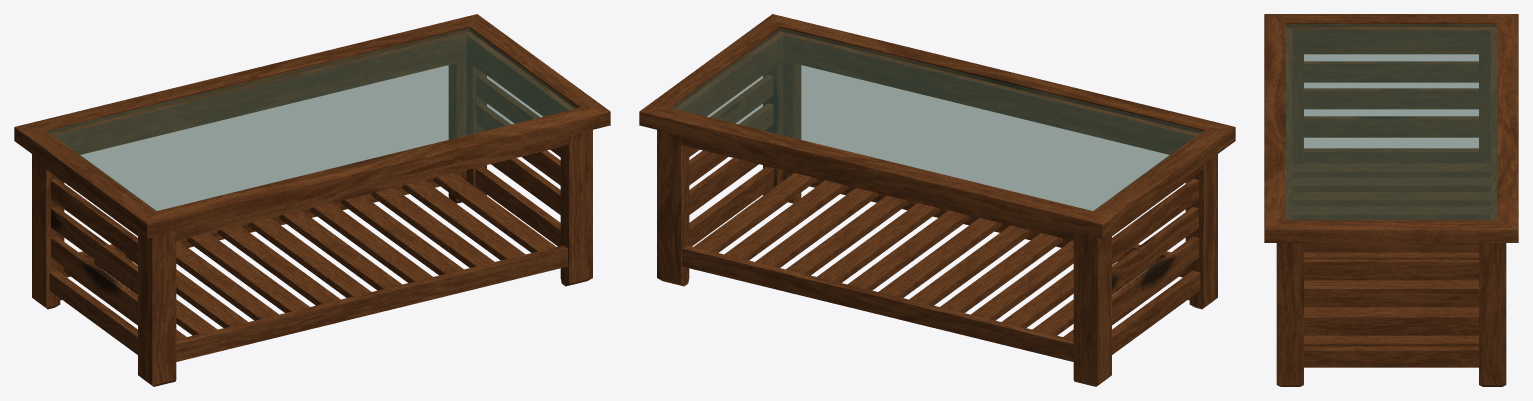
File: modern_wooden_glass_top_table_-_asset.glb
The picture shows the model from 3 angles, left to right: view 1: azimuth 30°, elevation 25°; view 2: azimuth 150°, elevation 25°; view 3: azimuth 270°, elevation 25°; orthographic projection. The views are drawn at different scales.
Visible parts, largest first — view 1: TABLE _1, GLASS_0; view 2: TABLE _1, GLASS_0; view 3: TABLE _1, GLASS_0.
Part boxes in pixels (<box>): TABLE _1: <box>14,14,610,386</box>; GLASS_0: <box>46,28,577,210</box>; TABLE _1: <box>639,14,1235,386</box>; GLASS_0: <box>672,28,1203,210</box>; TABLE _1: <box>1264,14,1518,386</box>; GLASS_0: <box>1285,24,1497,220</box>.
Size of the model in its own units: 6.17 by 2.2 by 3.07.
Materials: 2 (1 with a texture image).
